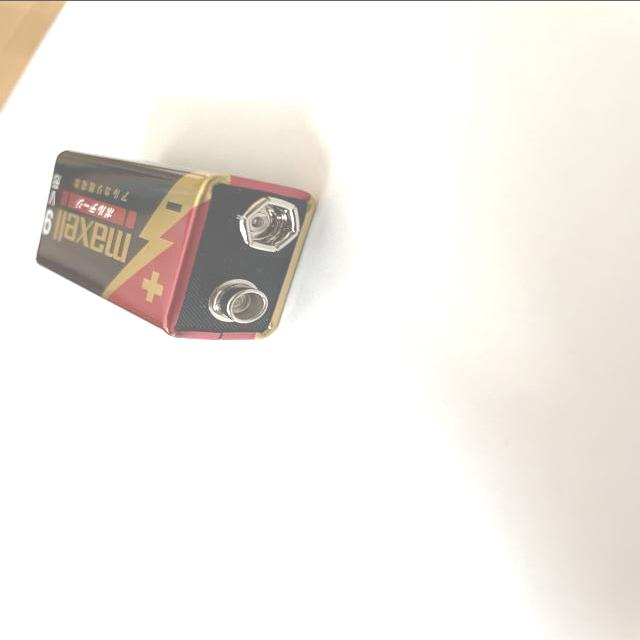9V: (34, 149, 317, 341)
